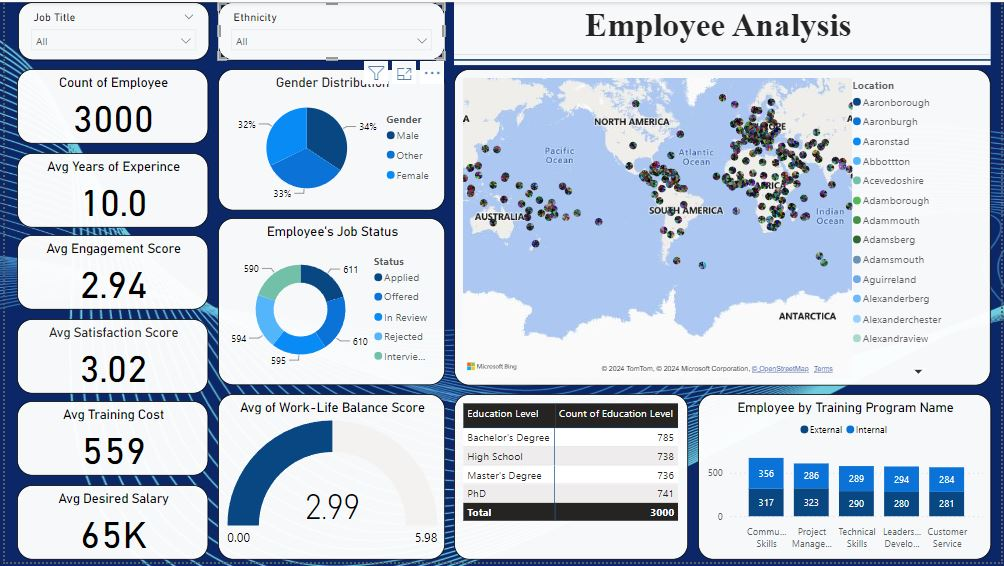

This screenshot's page, from the dashboard's own definition file:
{"tool":"powerbi","page":{"name":"Page 1","canvas":[1280,720],"ordinal":0},"visuals":[{"type":"card","title":"Count of Employee","fields":{"Values":["CountNonNull(employee_data.Employee ID)"]},"box":[15.1,86.7,246.4,96.3],"z":0},{"type":"card","title":"Avg Years of Experince","fields":{"Values":["Avg(employee_data.Years of Experience)"]},"box":[15.1,194.1,246.4,96.3],"z":1},{"type":"card","title":"Avg Engagement Score","fields":{"Values":["Avg(employee_data.Engagement Score)"]},"box":[15.1,300,246.4,96.3],"z":2},{"type":"card","title":"Avg Satisfaction Score","fields":{"Values":["Avg(employee_data.Satisfaction Score)"]},"box":[15.1,407.4,246.4,96.3],"z":3},{"type":"card","title":"Avg Training Cost","fields":{"Values":["Avg(employee_data.Training Cost)"]},"box":[15.1,513.4,246.4,96.3],"z":4},{"type":"card","title":"Avg Desired Salary","fields":{"Values":["Avg(employee_data.Desired Salary)"]},"box":[15.1,620.7,246.4,96.3],"z":5},{"type":"slicer","fields":{"Values":["employee_data.Job Title"]},"box":[16.9,0,245.6,74.8],"z":6},{"type":"columnChart","title":"Employee by Training Program Name","fields":{"Category":["employee_data.Training Program Name"],"Y":["CountNonNull(employee_data.Employee ID)"],"Series":["employee_data.Training Type"]},"box":[890.8,504,376.9,213.2],"z":7},{"type":"pieChart","title":"Gender Distribution","fields":{"Category":["employee_data.Gender"],"Y":["CountNonNull(employee_data.Employee ID)"]},"box":[273.9,86.1,292.2,182.1],"z":8},{"type":"gauge","title":"Avg of Work-Life Balance Score","fields":{"Y":["Avg(employee_data.Work-Life Balance Score)"]},"box":[273.9,504,292.2,213.2],"z":9},{"type":"pivotTable","fields":{"Rows":["employee_data.Education Level"],"Values":["CountNonNull(employee_data.Education Level)"]},"box":[577.4,504,300.7,213.2],"z":10},{"type":"donutChart","title":"Employee''s Job Status","fields":{"Category":["employee_data.Status"],"Y":["CountNonNull(employee_data.Employee ID)"]},"box":[273.9,278.1,292.2,214.6],"z":11},{"type":"slicer","fields":{"Values":["employee_data.Ethnicity"]},"box":[273.9,0,292.2,74.8],"z":12},{"type":"map","fields":{"Category":["employee_data.Country"],"Series":["employee_data.Location"]},"box":[577.4,86.1,690.4,406.6],"z":13},{"type":"shape","box":[577.4,67.8,690.4,12.7],"z":14},{"type":"textbox","box":[577.4,0,690.4,67.8],"z":15}]}

Visuals, with their boxes in screenshot pixels (x1, y1, x2, y2), scaled from the page's 1280x720 canvas onto the 1004x566 screenshot:
"Count of Employee" card: (12, 68, 205, 144)
"Avg Years of Experince" card: (12, 153, 205, 228)
"Avg Engagement Score" card: (12, 236, 205, 312)
"Avg Satisfaction Score" card: (12, 320, 205, 396)
"Avg Training Cost" card: (12, 404, 205, 479)
"Avg Desired Salary" card: (12, 488, 205, 564)
slicer - employee_data.Job Title: (13, 0, 206, 59)
"Employee by Training Program Name" columnChart: (699, 396, 994, 564)
"Gender Distribution" pieChart: (215, 68, 444, 211)
"Avg of Work-Life Balance Score" gauge: (215, 396, 444, 564)
pivotTable - employee_data.Education Level x CountNonNull(employee_data.Education Level): (453, 396, 689, 564)
"Employee''s Job Status" donutChart: (215, 219, 444, 387)
slicer - employee_data.Ethnicity: (215, 0, 444, 59)
map - employee_data.Country x employee_data.Location: (453, 68, 994, 387)
shape: (453, 53, 994, 63)
textbox: (453, 0, 994, 53)
